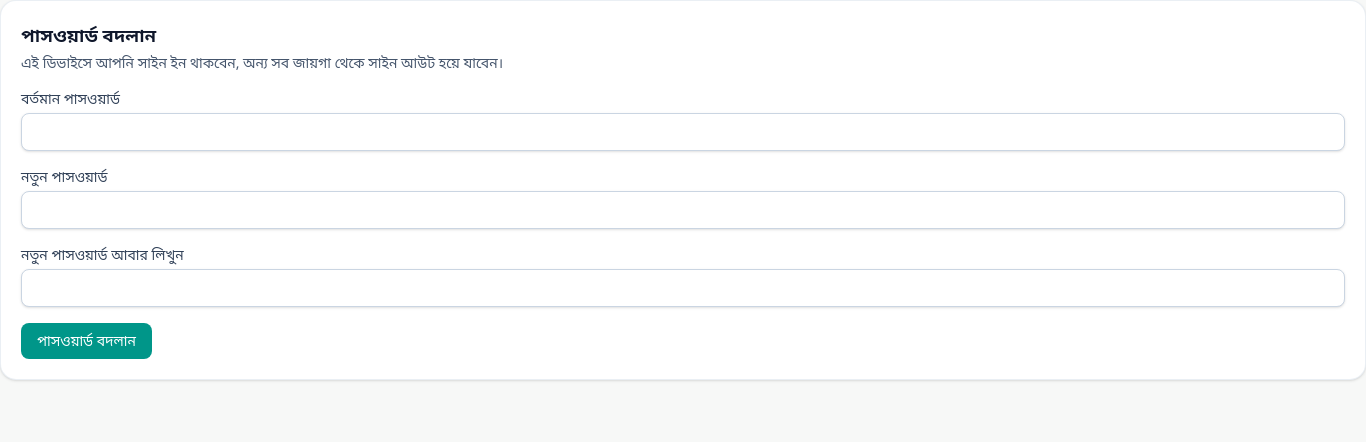
it: ChangePasswordForm in Bangla › catches a short password and a mismatch in Bangla, with Bangla digits
Type "OldPassword1" into the password field labelled "বর্তমান পাসওয়ার্ড" at (683, 132), box [21, 113, 1345, 151]
Type "short" into the password field labelled "নতুন পাসওয়ার্ড" at (683, 210), box [21, 191, 1345, 229]
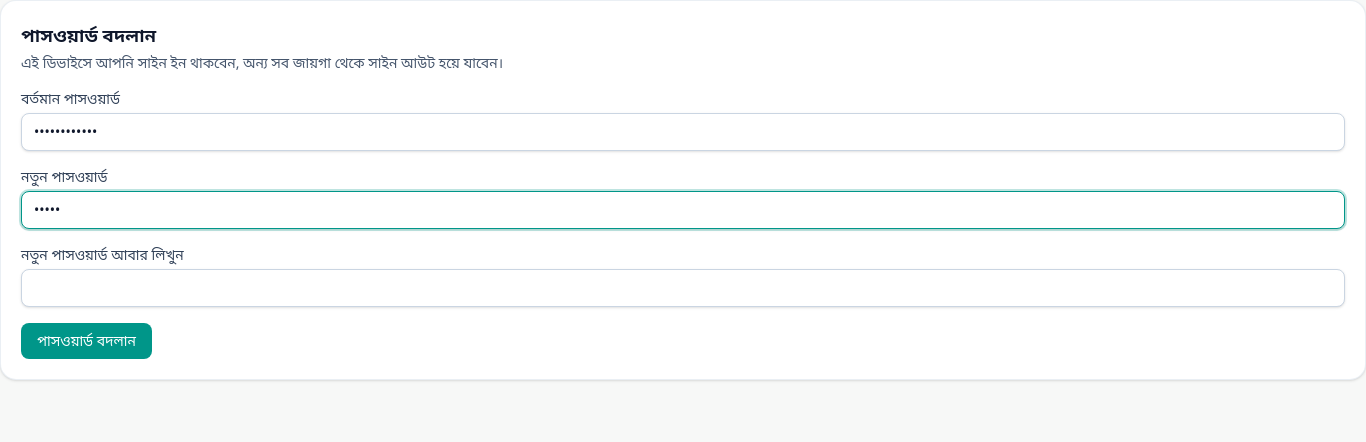
Type "short" into the password field labelled "নতুন পাসওয়ার্ড আবার লিখুন" at (683, 288), box [21, 269, 1345, 307]
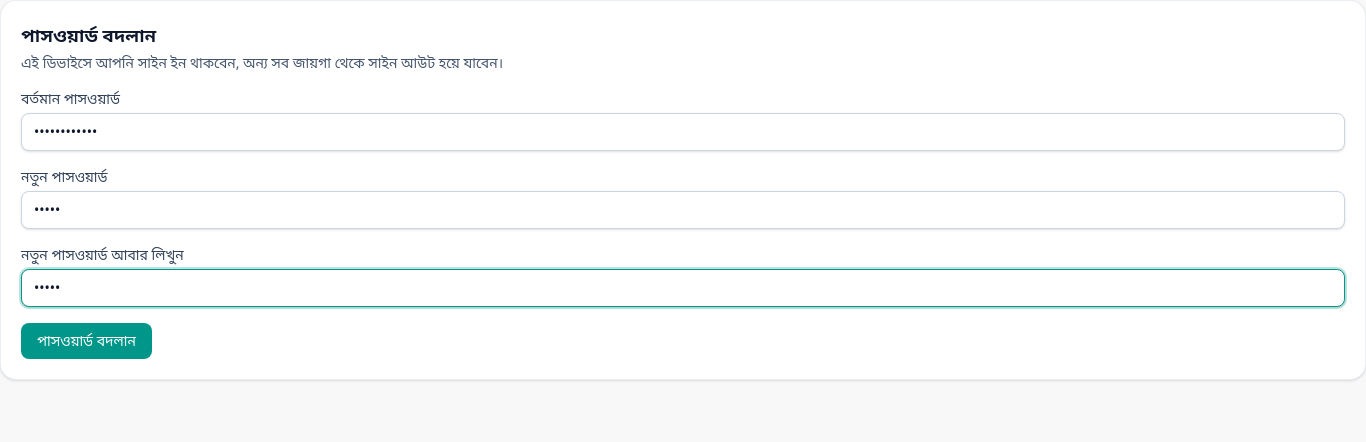
Click the button "পাসওয়ার্ড বদলান" at (86, 341), box [21, 323, 152, 359]
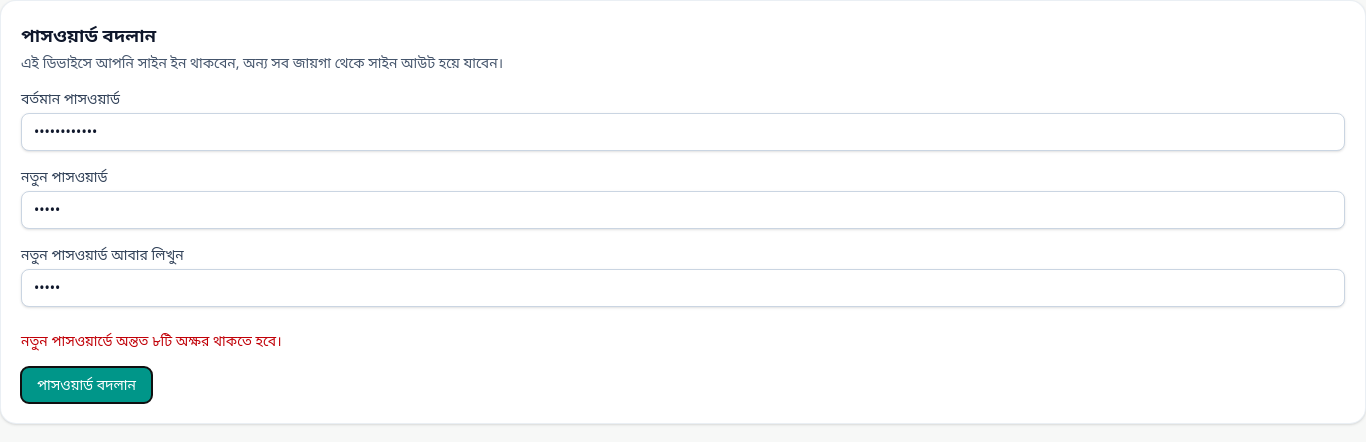
Type "NewPassword12" into the password field labelled "নতুন পাসওয়ার্ড" at (683, 210), box [21, 191, 1345, 229]
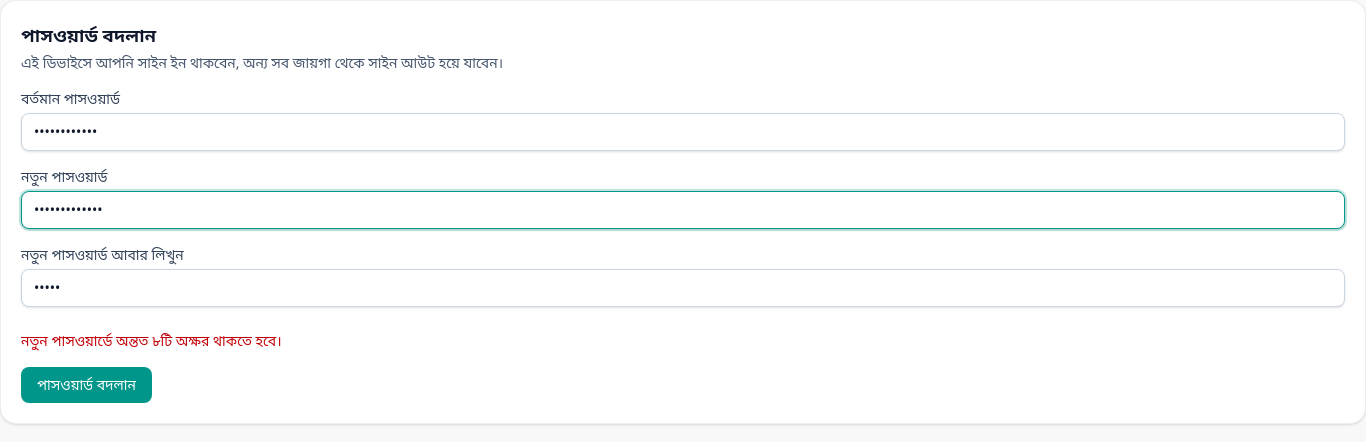
Type "Different99" into the password field labelled "নতুন পাসওয়ার্ড আবার লিখুন" at (683, 288), box [21, 269, 1345, 307]
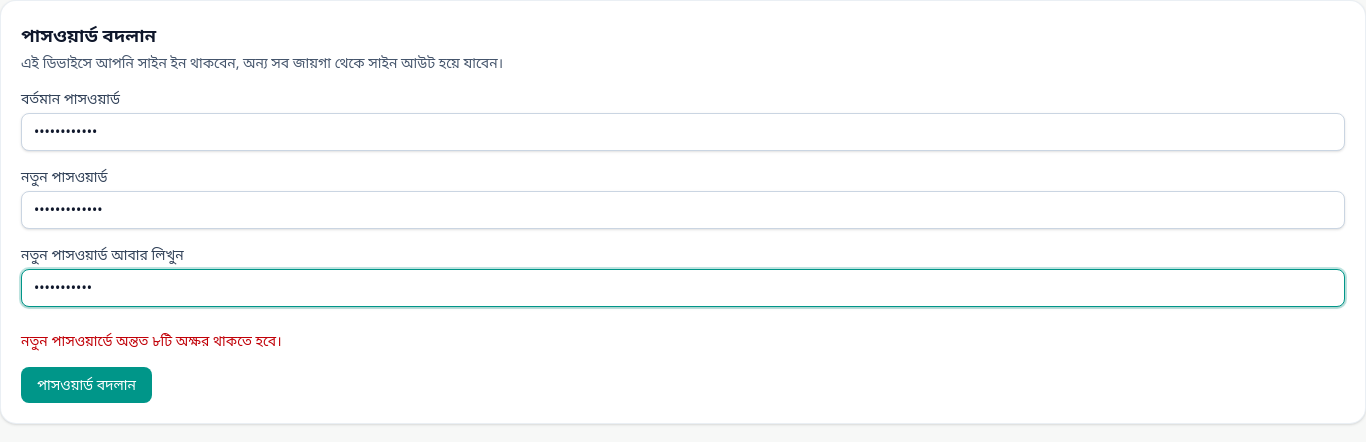
Click the button "পাসওয়ার্ড বদলান" at (86, 385), box [21, 367, 152, 403]
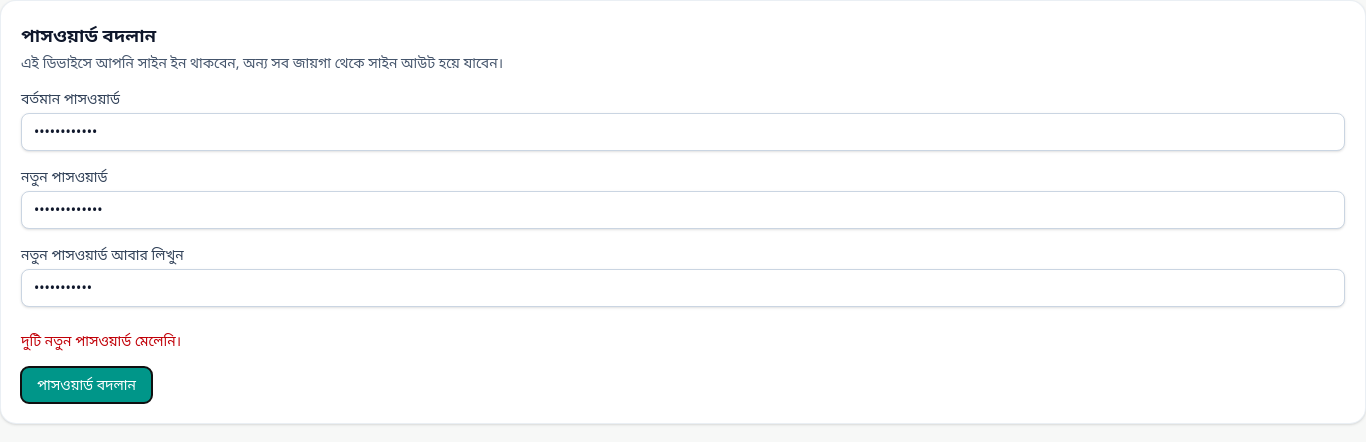
Now the text "দুটি নতুন পাসওয়ার্ড মেলেনি।" is shown, box [21, 331, 181, 350]
